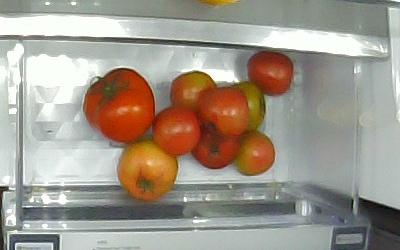tomato: (84, 68, 156, 141), (119, 139, 179, 203), (199, 87, 250, 135), (152, 109, 199, 156), (246, 51, 293, 96), (191, 127, 242, 168), (232, 80, 266, 135), (170, 69, 218, 106), (235, 133, 276, 176)
